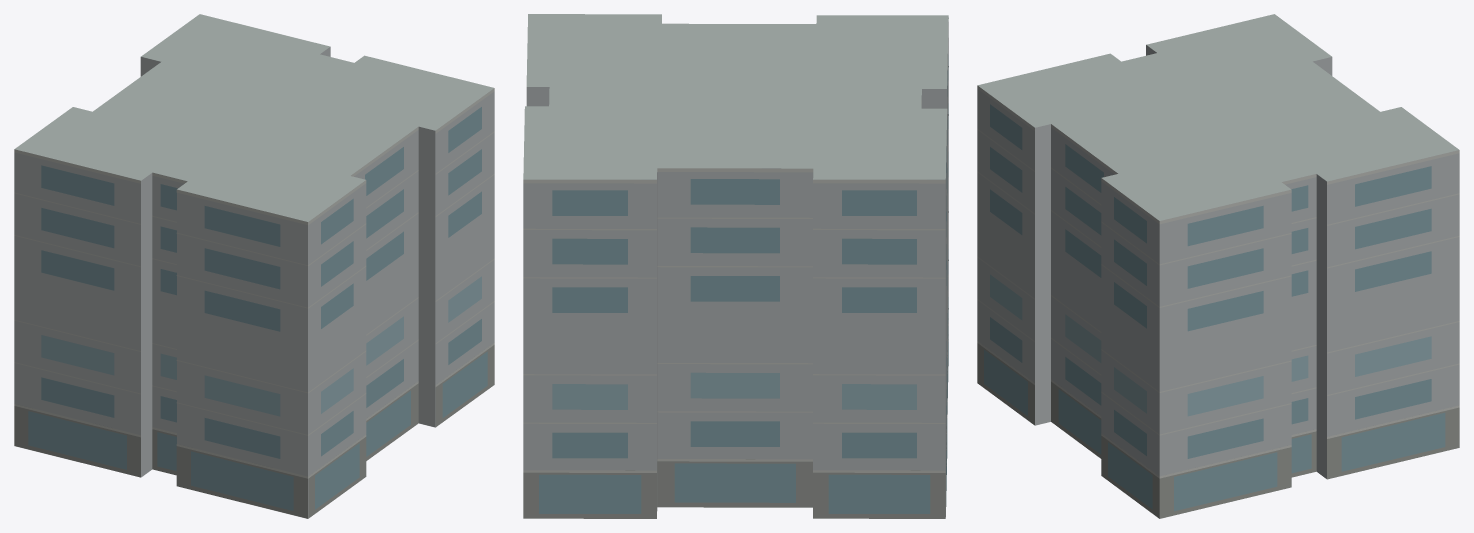
File: survey-upis-32714498.glb
The picture shows the model from 3 angles, left to right: view 1: azimuth 30°, elevation 25°; view 2: azimuth 150°, elevation 25°; view 3: azimuth 270°, elevation 25°; orthographic projection. The views are drawn at different scales.
Parts seen in each view (by area): view 1: survey-upis-32714498.tmp; view 2: survey-upis-32714498.tmp; view 3: survey-upis-32714498.tmp.
Part boxes in pixels (x1,y1,x2,y2): survey-upis-32714498.tmp: [14, 14, 494, 518]; survey-upis-32714498.tmp: [523, 14, 948, 518]; survey-upis-32714498.tmp: [977, 14, 1459, 518].
Size of the model in its own units: 32.97 by 22.1 by 32.45.
